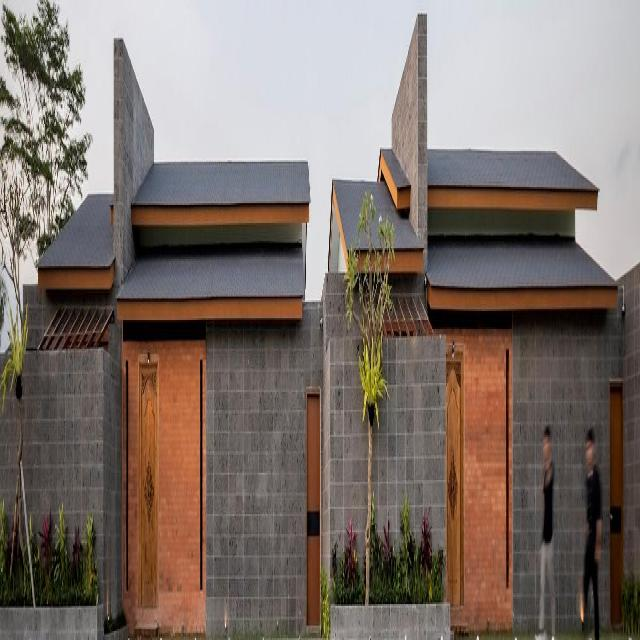door: (136, 360, 158, 611), (446, 344, 464, 614), (306, 389, 322, 639), (609, 386, 625, 630)
